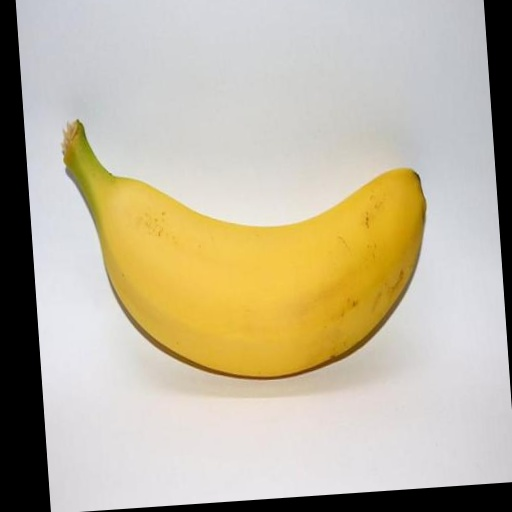fruit: (63, 121, 425, 377)
